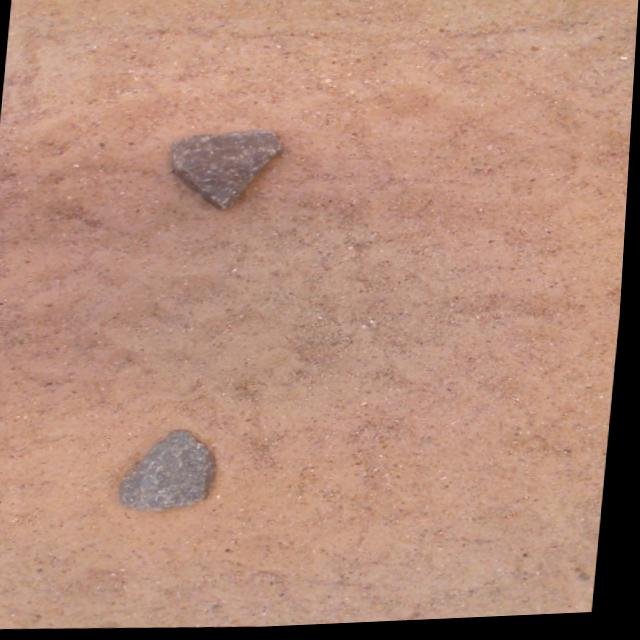rock: (174, 132, 283, 209), (126, 431, 221, 510)
